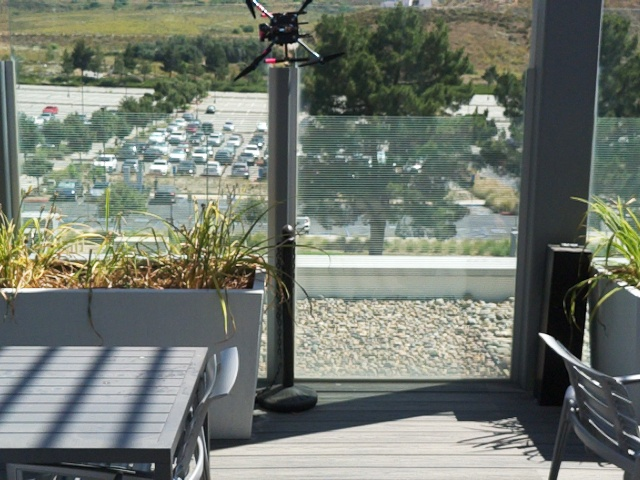quadcopter: (223, 1, 351, 75)
